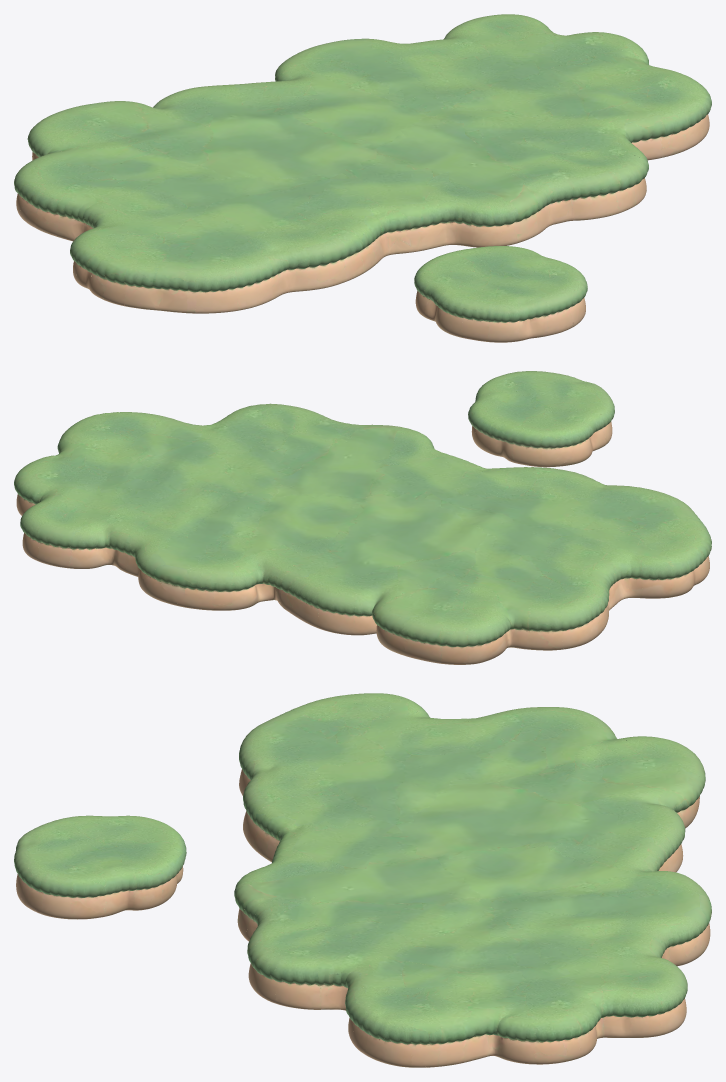
File: terrain-low.glb
The picture shows the model from 3 angles, top to bottom: view 1: azimuth 30°, elevation 25°; view 2: azimuth 150°, elevation 25°; view 3: azimuth 270°, elevation 25°; orthographic projection. The views are drawn at different scales.
Parts seen in each view (by area): view 1: Mesh_0; view 2: Mesh_0; view 3: Mesh_0.
Boxes of the visible parts, x1,y1,x2,y2 form: Mesh_0: [14, 14, 711, 342]; Mesh_0: [14, 371, 711, 664]; Mesh_0: [14, 693, 711, 1067].
Bounding box in the file's own units: 1.9 × 0.1166 × 1.65.
Materials: 1 (1 with a texture image).
